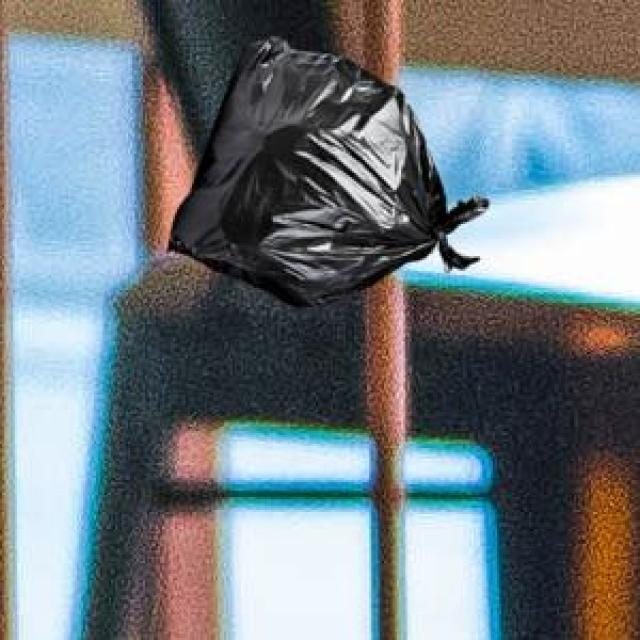miscellaneous trash: (164, 32, 484, 303)
